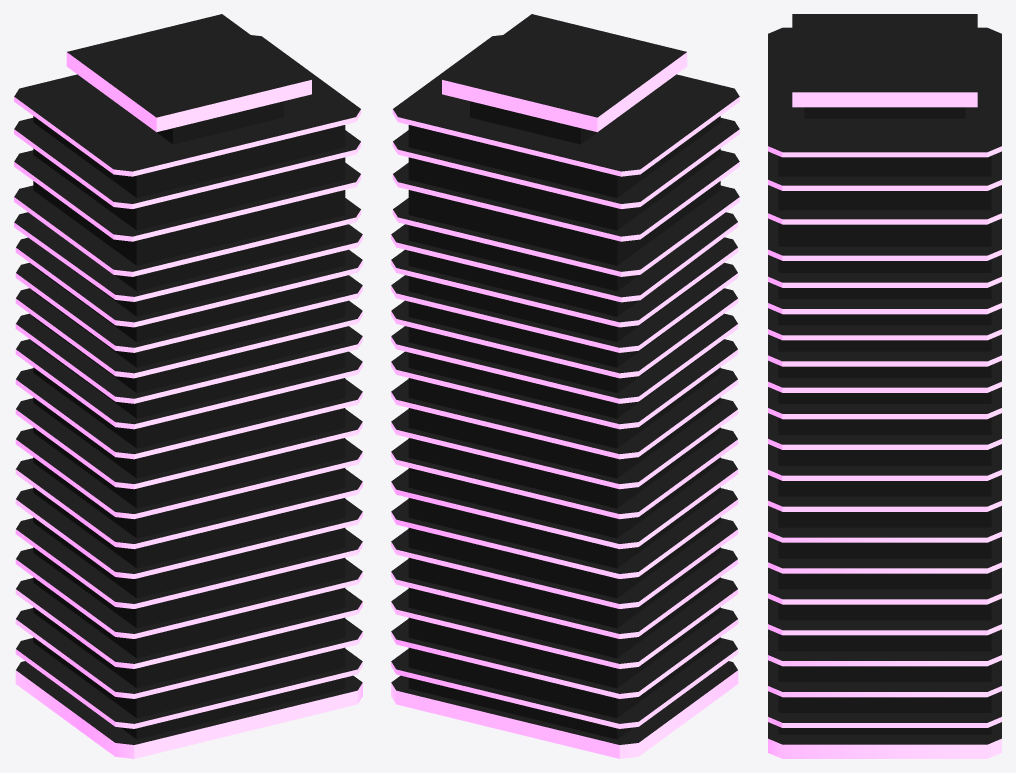
3 renders of one model, left to right at view 1: azimuth 30°, elevation 25°; view 2: azimuth 150°, elevation 25°; view 3: azimuth 270°, elevation 25°, orthographic. The views are drawn at different scales.
Visible parts, largest first — view 1: Object013; view 2: Object013; view 3: Object013.
Boxes of the visible parts, bbox=[...] form: Object013: bbox=[14, 14, 362, 758]; Object013: bbox=[391, 14, 739, 758]; Object013: bbox=[768, 14, 1001, 758].
Size of the model in its own units: 482 by 1154 by 380.
